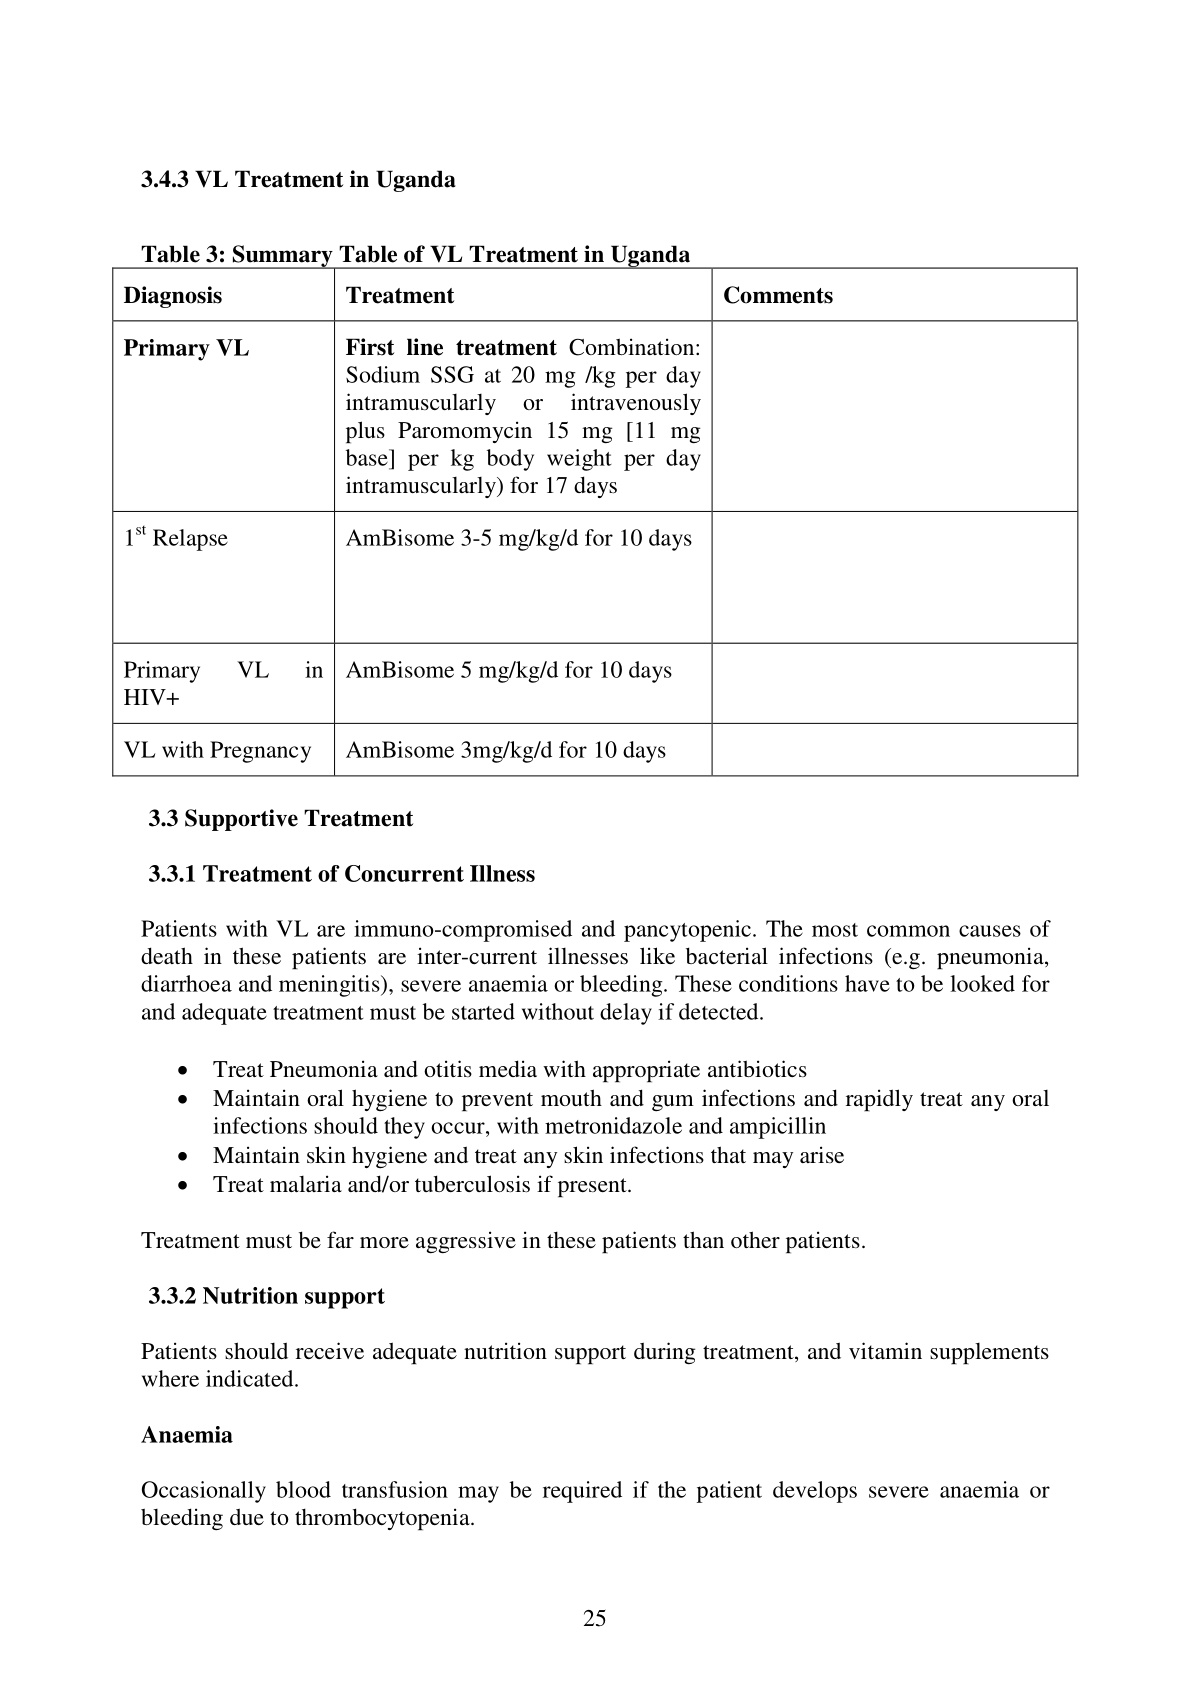full_lined: (112, 267, 1079, 777)
